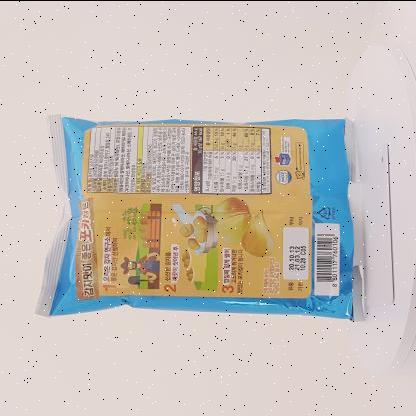Others: (27, 98, 381, 330)
